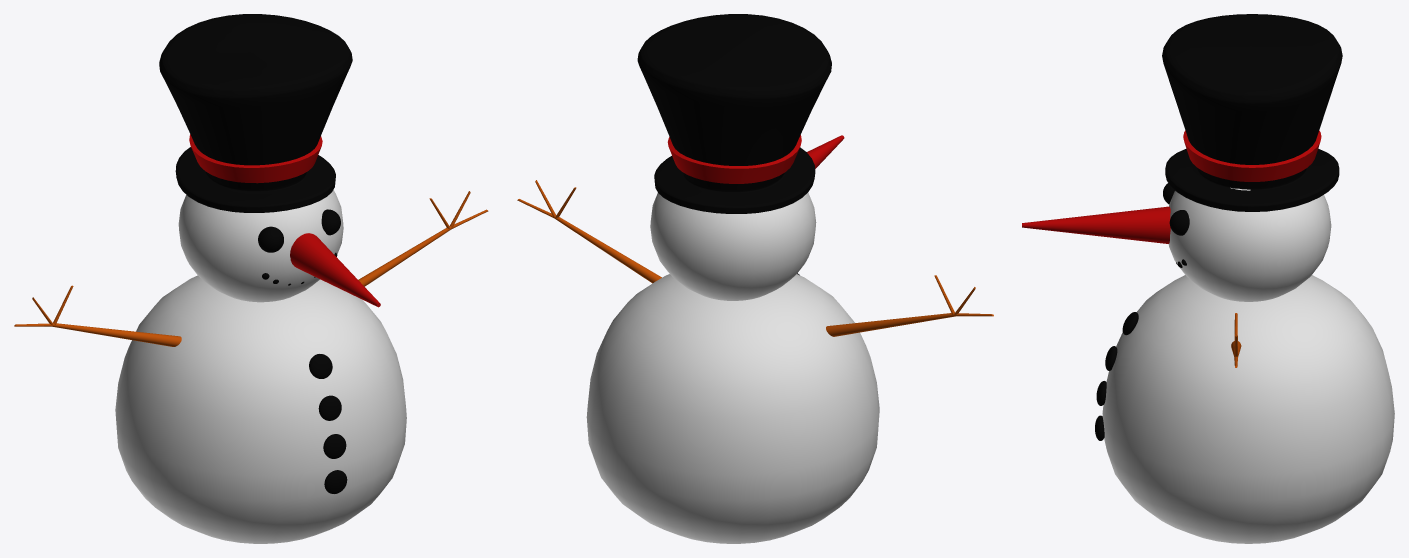
File: tree.glb
3 views of the same model, side by side, from view 1: azimuth 30°, elevation 25°; view 2: azimuth 150°, elevation 25°; view 3: azimuth 270°, elevation 25° (orthographic).
Visible parts, largest first — view 1: Sphere054, Cylinder017, Sphere053, Cone007, Group012, Cone008, Cone009; view 2: Sphere054, Cylinder017, Sphere053, Group012, Cone008, Cone009; view 3: Sphere054, Cylinder017, Sphere053, Cone007, Group012.
Part boxes in pixels (x1,y1,x2,y2): Sphere054: (115,275,406,543); Cylinder017: (159,14,352,212); Sphere053: (178,190,343,302); Cone007: (290,233,380,307); Group012: (189,134,322,183); Cone008: (32,297,181,346); Cone009: (358,191,470,286); Sphere054: (586,274,879,543); Cylinder017: (637,14,831,213); Sphere053: (650,192,816,300); Group012: (667,135,801,183); Cone008: (826,287,975,336); Cone009: (535,180,661,283); Sphere054: (1102,275,1394,543); Cylinder017: (1162,14,1342,211); Sphere053: (1168,187,1331,301); Cone007: (1022,206,1170,243); Group012: (1183,130,1321,181).
Bounding box in the file's own units: 1.22 × 1.17 × 0.8285.
